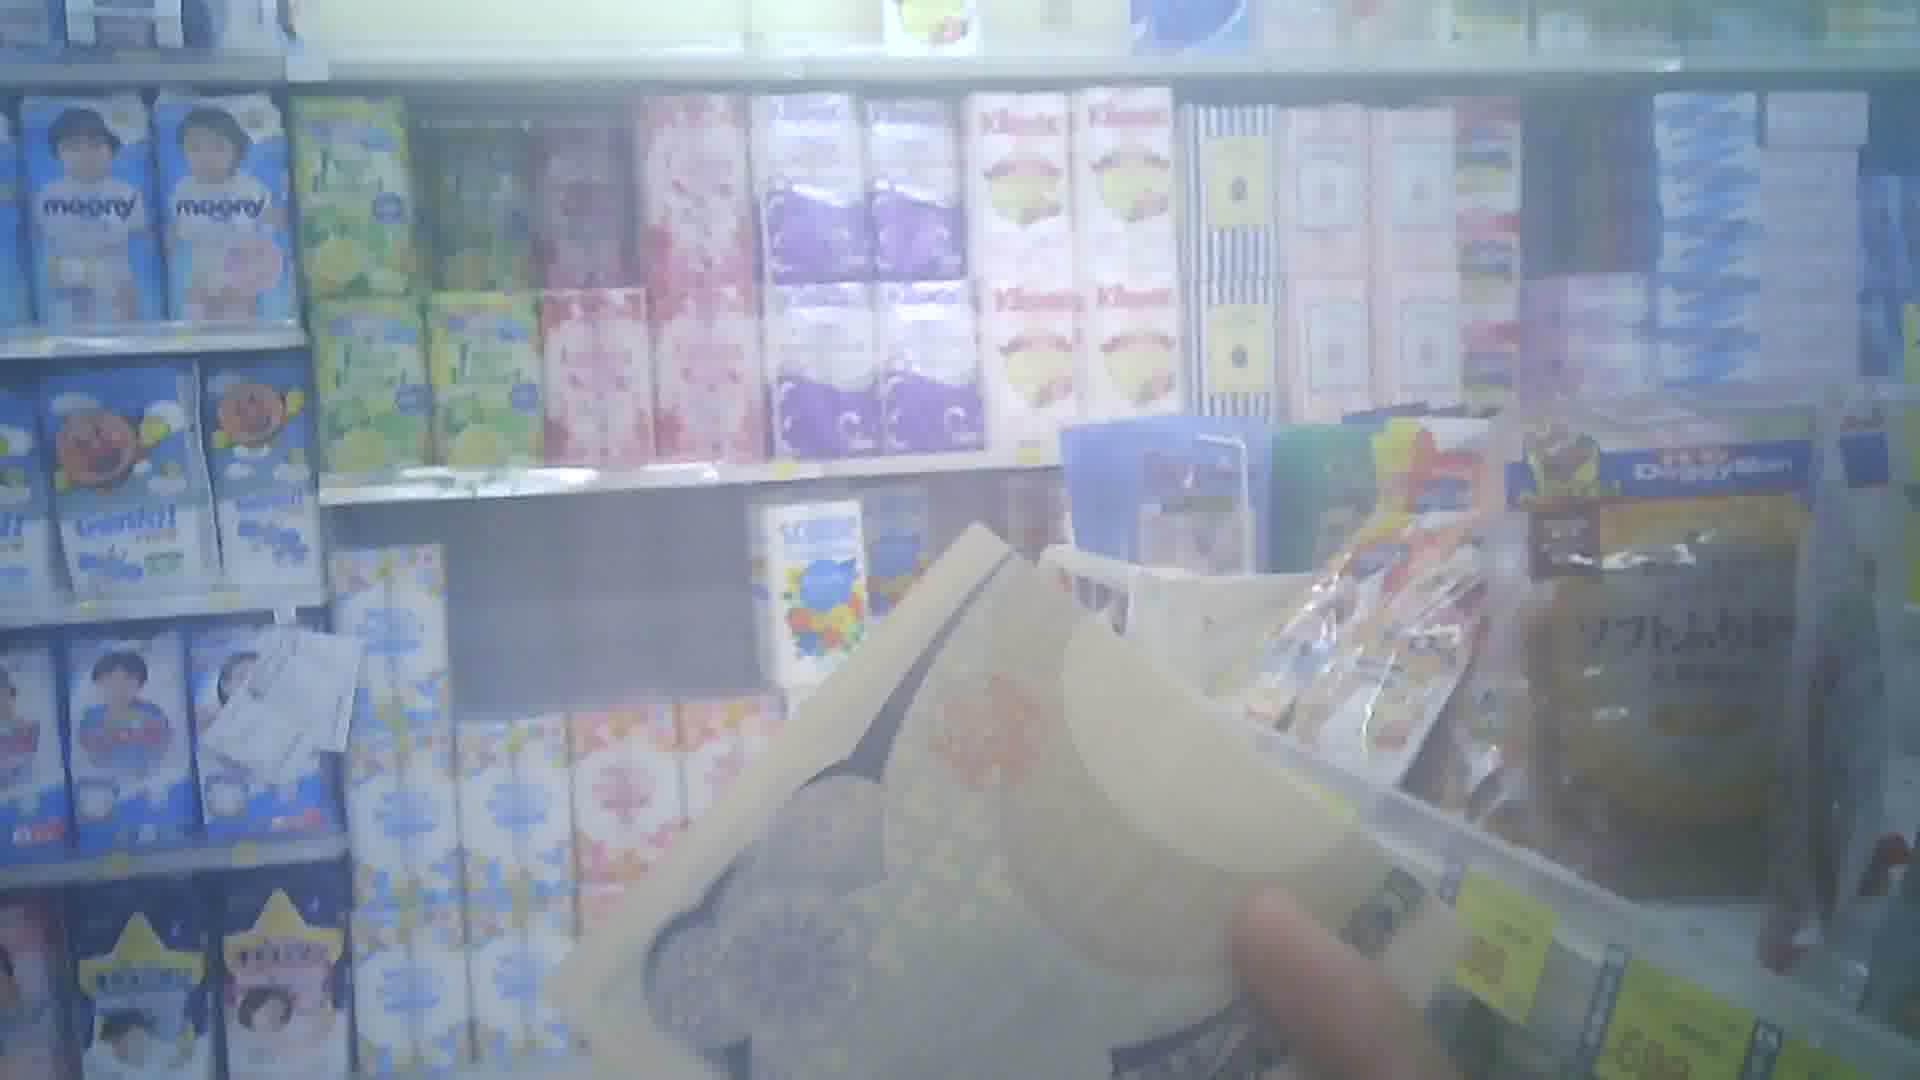1,000 Yen: (520, 541, 1439, 1079)
